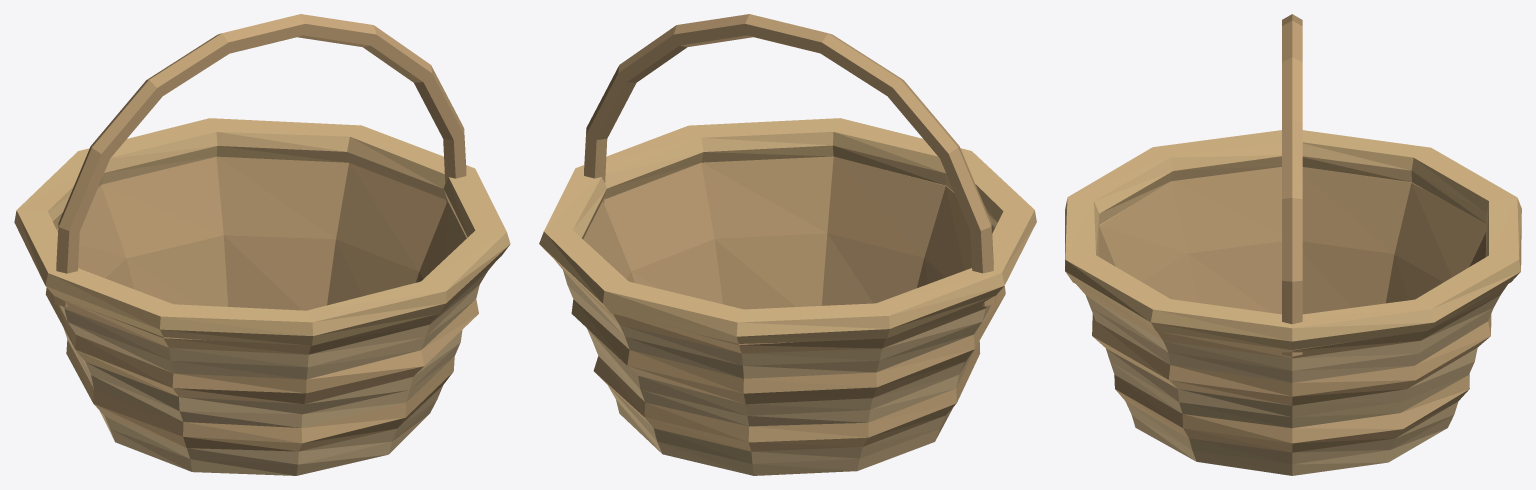
File: basket_lowpoly.glb
3 renders of one model, left to right at view 1: azimuth 30°, elevation 25°; view 2: azimuth 150°, elevation 25°; view 3: azimuth 270°, elevation 25°, orthographic. The views are drawn at different scales.
Visible parts, largest first — view 1: Basket_Body, Basket_Handle; view 2: Basket_Body, Basket_Handle; view 3: Basket_Body, Basket_Handle.
Boxes of the visible parts, box(x1,y1,x2,y2) form: Basket_Body: box(14, 118, 510, 475); Basket_Handle: box(54, 14, 466, 306); Basket_Body: box(539, 118, 1036, 475); Basket_Handle: box(584, 14, 995, 306); Basket_Body: box(1065, 130, 1521, 475); Basket_Handle: box(1282, 14, 1302, 356).
Bounding box in the file's own units: 2.19 × 1.86 × 2.09.
